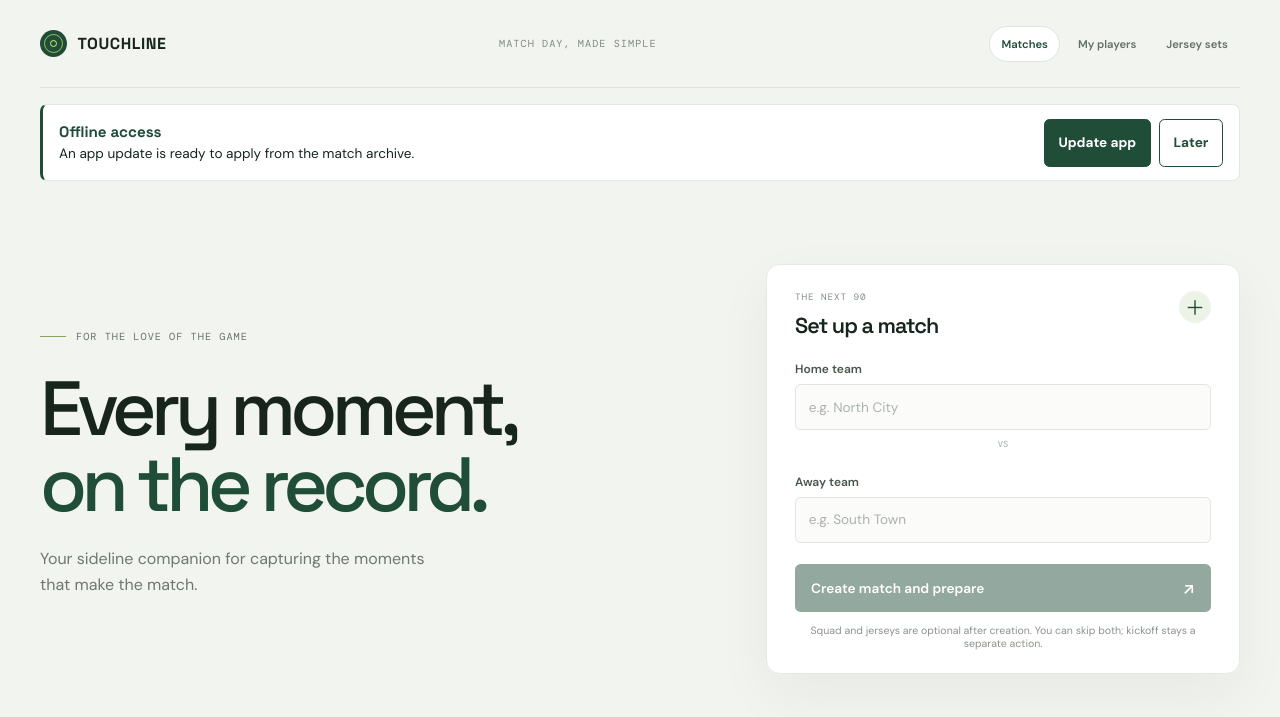
App › keeps actionable PWA update controls on the archive, away from live screens and editors
Check: the message is shown, box [40,104,1240,181]
Check: the button "Update app" is shown, box [1044,119,1151,167]
Click the button "My players" at [1107, 44], box [1066,26,1148,62]
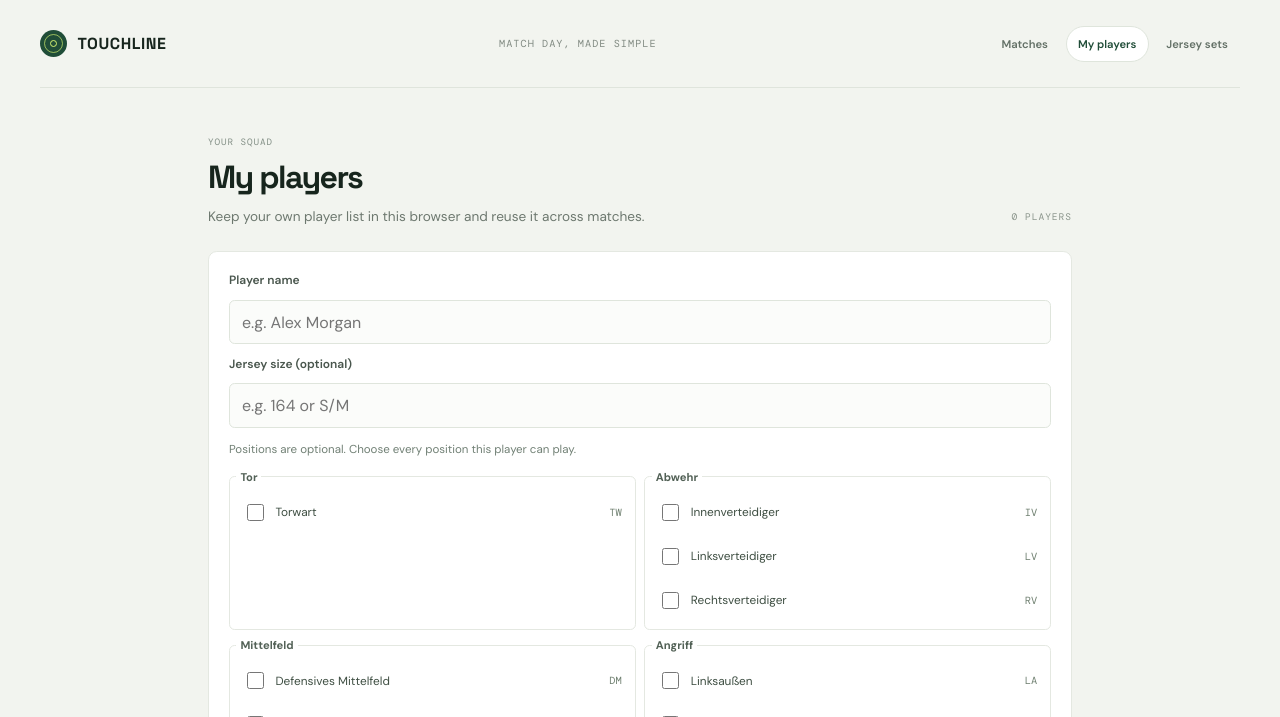
Check: the field with id "create-player-name" is shown, box [229,300,1051,344]
Click the button "Matches" at [1025, 44], box [989,26,1060,62]
(page scrolled)
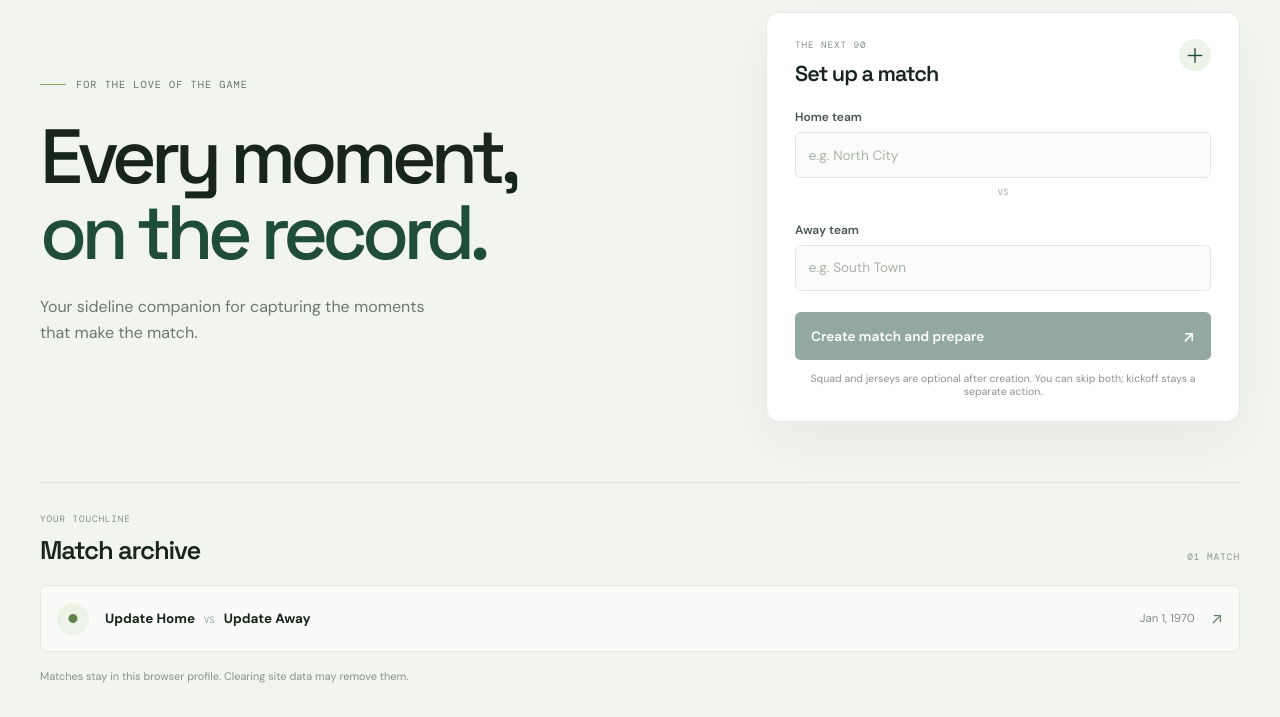
Click the button with aria-label "Open Update Home versus Update Away" at [73, 619], box [40,585,1240,652]
(page scrolled)
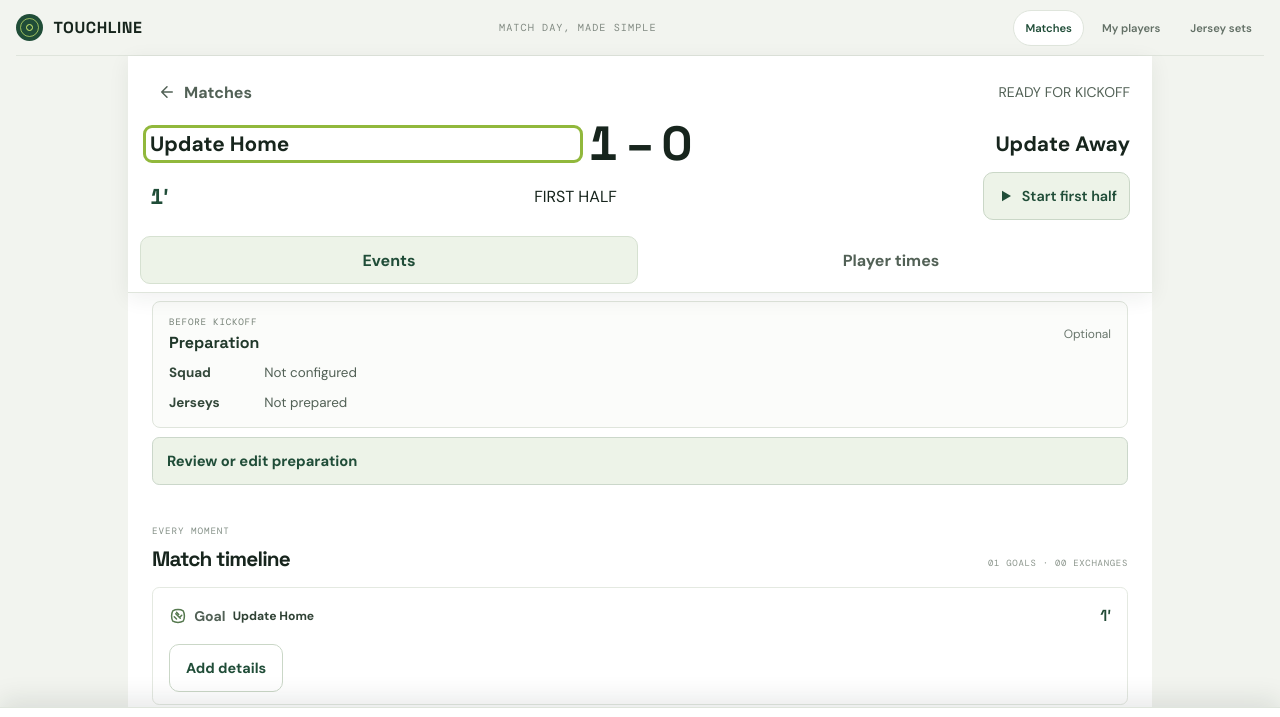
Check: the 1st text "Update Home" is shown, box [150,130,289,157]
Click the button "Add details" at [226, 668], box [169,644,283,692]
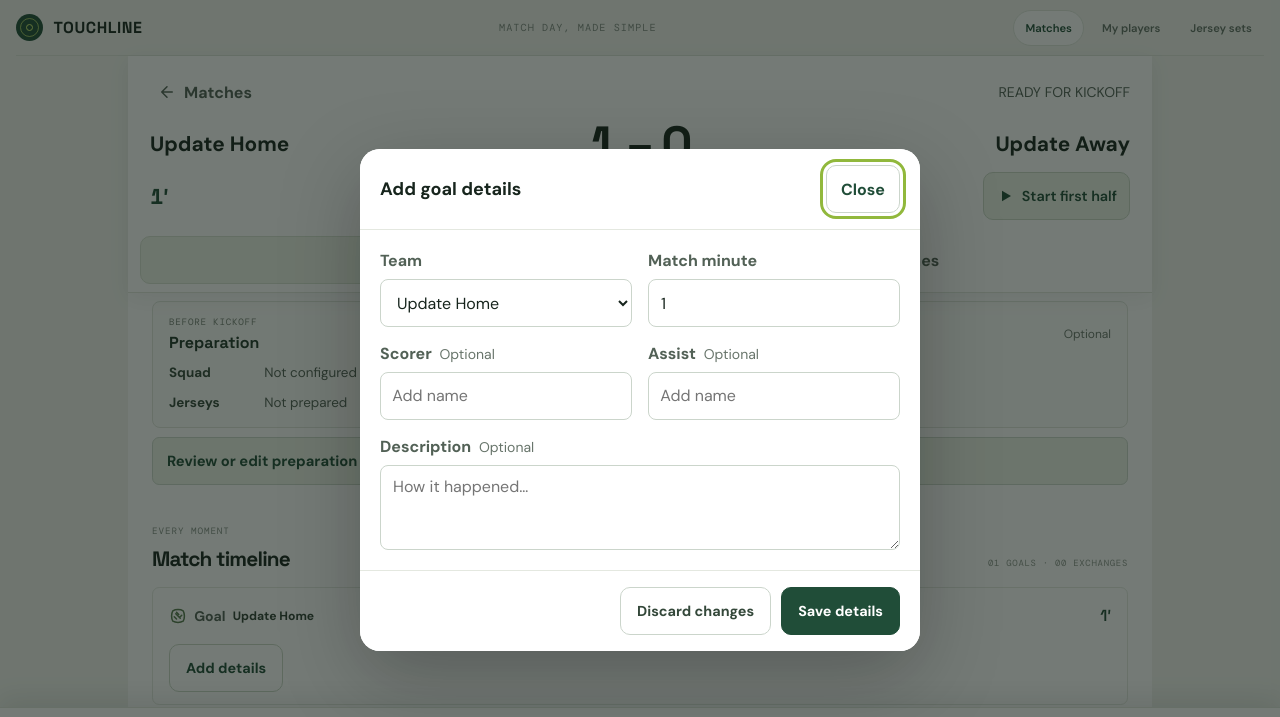
Check: the dialog is shown, box [360,149,920,651]
